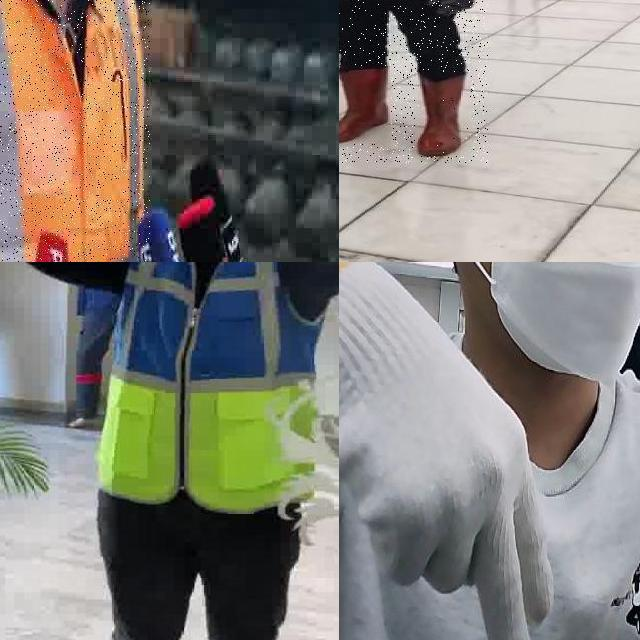BOOTS: (415, 72, 472, 156), (339, 66, 392, 144)
GLOVE: (339, 262, 556, 640), (430, 0, 480, 20)
VEST: (90, 262, 326, 517), (0, 0, 150, 262)
